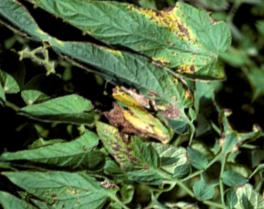Tomato leaf bacterial spot: (43, 11, 208, 131), (64, 0, 251, 103), (0, 129, 123, 209), (75, 113, 183, 196)
